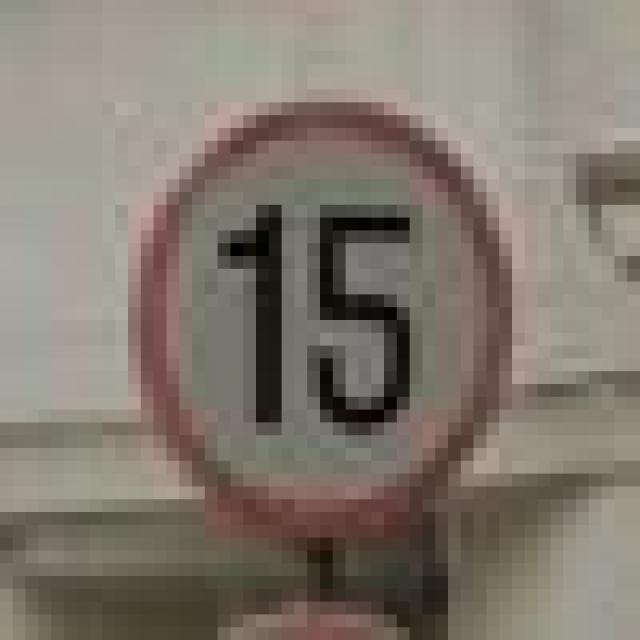SPEED_LIMIT_15: (115, 76, 512, 538)
